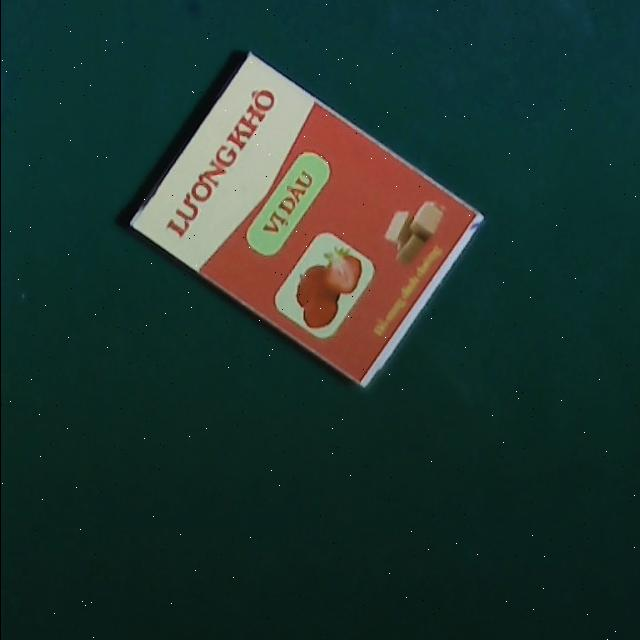dau: (126, 50, 487, 392)
